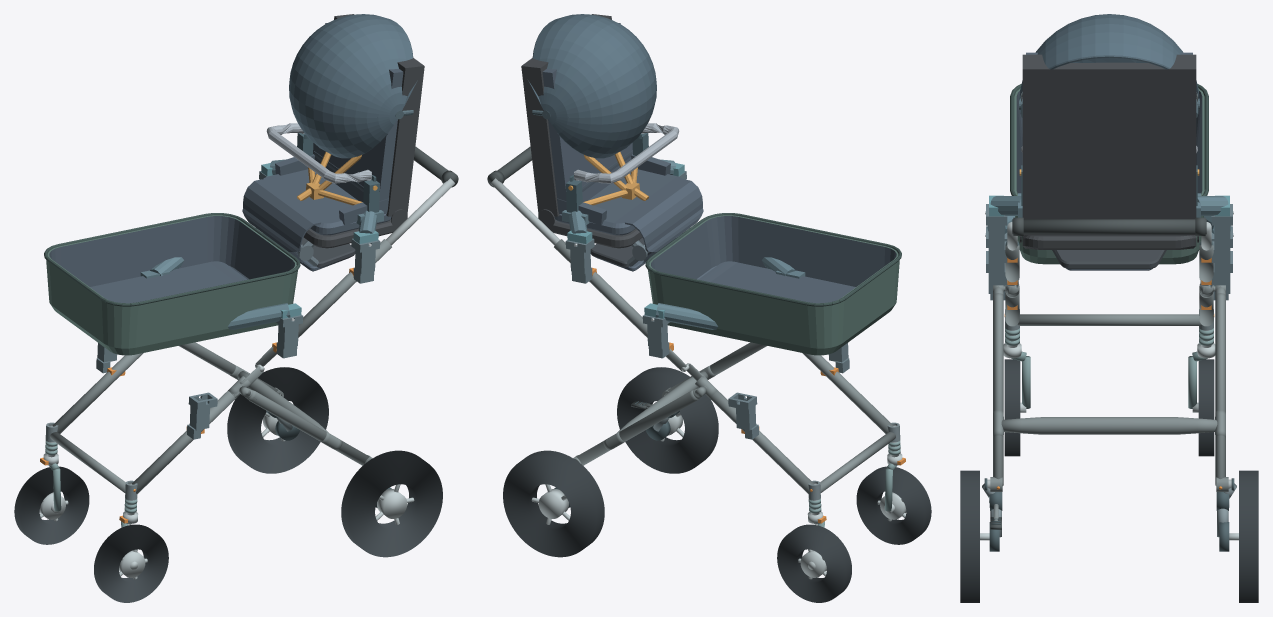
Rendered from D08_w550_state1_wheel_M.glb.
3 renders of one model, left to right at view 1: azimuth 30°, elevation 25°; view 2: azimuth 150°, elevation 25°; view 3: azimuth 270°, elevation 25°, orthographic. The views are drawn at different scales.
Parts seen in each view (by area): view 1: D08_Upper, D08_Lower, RL_tire.002, RR_tire.002, FL_tire.002, FR_tire.002, D08_Lower_Mount_M, V46_rear_leg_-1.003, main_lower_-1.003, main_lower_1.003, main_upper_-1.003, D08_Upper_Mount_H (+8 smaller); view 2: D08_Upper, D08_Lower, RR_tire.002, RL_tire.002, FR_tire.002, FL_tire.002, D08_Lower_Mount_M, V46_rear_leg_1.003, main_lower_1.003, main_lower_-1.003, main_upper_1.003, D08_Upper_Mount_H (+8 smaller); view 3: D08_Upper, V46_rearbar.003, D08_Lower, round_handle.002, RL_tire.002, RR_tire.002, front_fixed_round_tube.002, V46_rear_leg_1.003, V46_rear_leg_-1.003, D08_Upper_Mount_H, FL_tire.002, FR_tire.002 (+10 smaller).
Boxes of the visible parts, bbox=[...] form: D08_Upper: bbox=[242, 14, 424, 271]; D08_Lower: bbox=[44, 213, 300, 355]; RL_tire.002: bbox=[341, 450, 442, 557]; RR_tire.002: bbox=[227, 367, 328, 473]; FL_tire.002: bbox=[94, 524, 168, 602]; FR_tire.002: bbox=[14, 466, 89, 544]; D08_Lower_Mount_M: bbox=[140, 257, 301, 329]; V46_rear_leg_-1.003: bbox=[247, 390, 369, 465]; main_lower_-1.003: bbox=[132, 391, 239, 494]; main_lower_1.003: bbox=[52, 353, 143, 433]; main_upper_-1.003: bbox=[277, 239, 391, 342]; D08_Upper_Mount_H: bbox=[261, 159, 383, 246]; D08_Upper: bbox=[521, 14, 703, 271]; D08_Lower: bbox=[645, 213, 901, 355]; RR_tire.002: bbox=[503, 450, 604, 557]; RL_tire.002: bbox=[617, 367, 718, 473]; FR_tire.002: bbox=[777, 524, 851, 602]; FL_tire.002: bbox=[856, 466, 931, 544]; D08_Lower_Mount_M: bbox=[644, 257, 805, 329]; V46_rear_leg_1.003: bbox=[576, 390, 698, 465]; main_lower_1.003: bbox=[706, 391, 813, 494]; main_lower_-1.003: bbox=[802, 353, 893, 433]; main_upper_1.003: bbox=[554, 239, 668, 342]; D08_Upper_Mount_H: bbox=[562, 159, 684, 246]; D08_Upper: bbox=[1019, 14, 1199, 270]; V46_rearbar.003: bbox=[1001, 417, 1217, 434]; D08_Lower: bbox=[1010, 84, 1208, 264]; round_handle.002: bbox=[1012, 219, 1206, 234]; RL_tire.002: bbox=[960, 470, 979, 602]; RR_tire.002: bbox=[1239, 470, 1258, 602]; front_fixed_round_tube.002: bbox=[1017, 314, 1201, 325]; V46_rear_leg_1.003: bbox=[1215, 293, 1225, 485]; V46_rear_leg_-1.003: bbox=[993, 293, 1003, 485]; D08_Upper_Mount_H: bbox=[985, 193, 1233, 217]; FL_tire.002: bbox=[1004, 359, 1020, 456]; FR_tire.002: bbox=[1198, 359, 1214, 456].
Size of the model in its own units: 1.16 by 1.48 by 0.6771.
